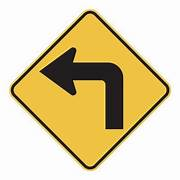left: (11, 8, 170, 169)
